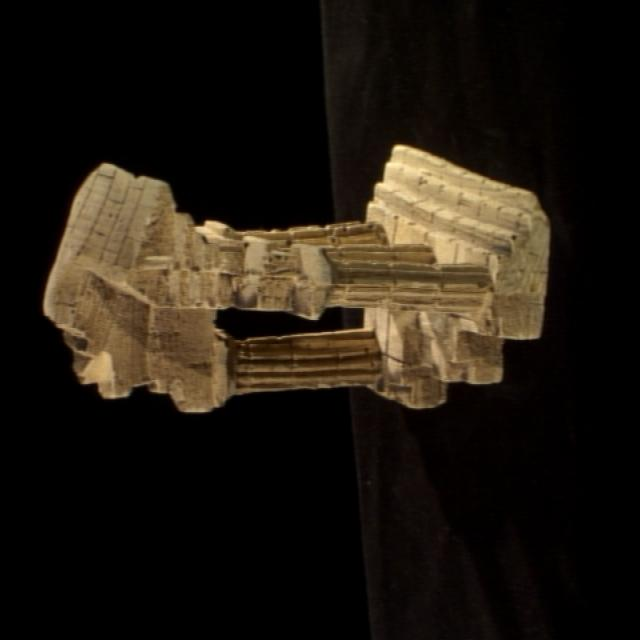Instance-Segmentation: (44, 147, 549, 411)
